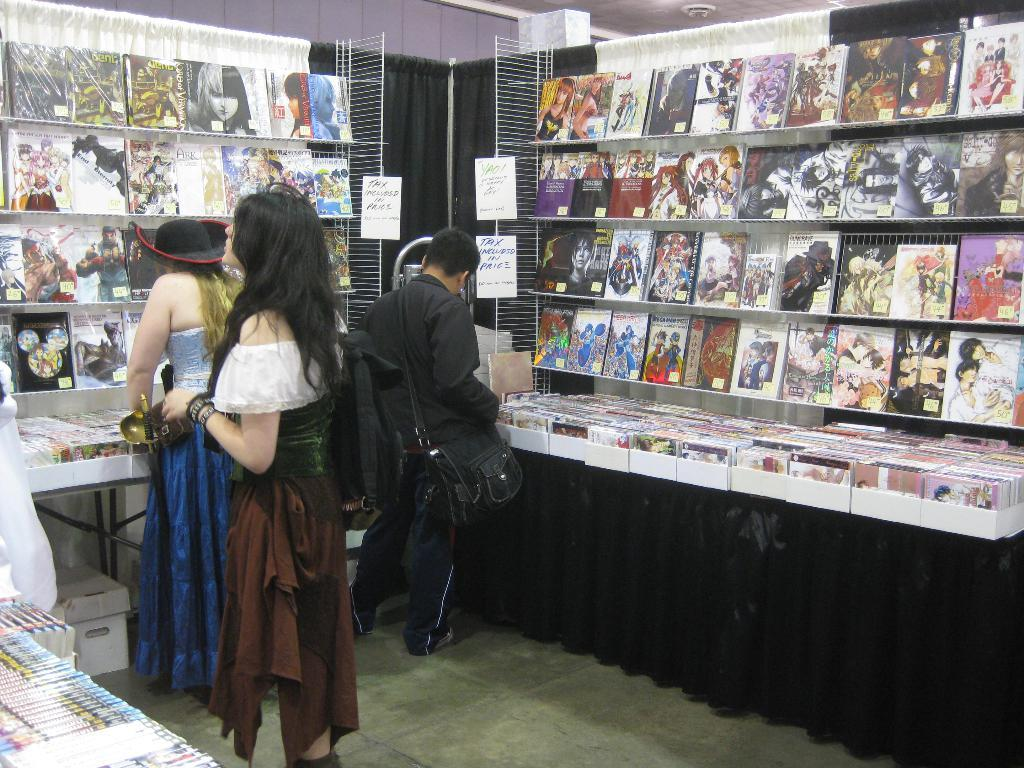Book: (493, 385, 1023, 518), (534, 303, 1023, 426), (526, 230, 1022, 324), (530, 124, 1017, 217), (0, 595, 227, 767), (0, 40, 355, 144), (0, 127, 355, 220), (535, 66, 1023, 132), (0, 220, 356, 304), (0, 305, 165, 399), (922, 475, 998, 509)
